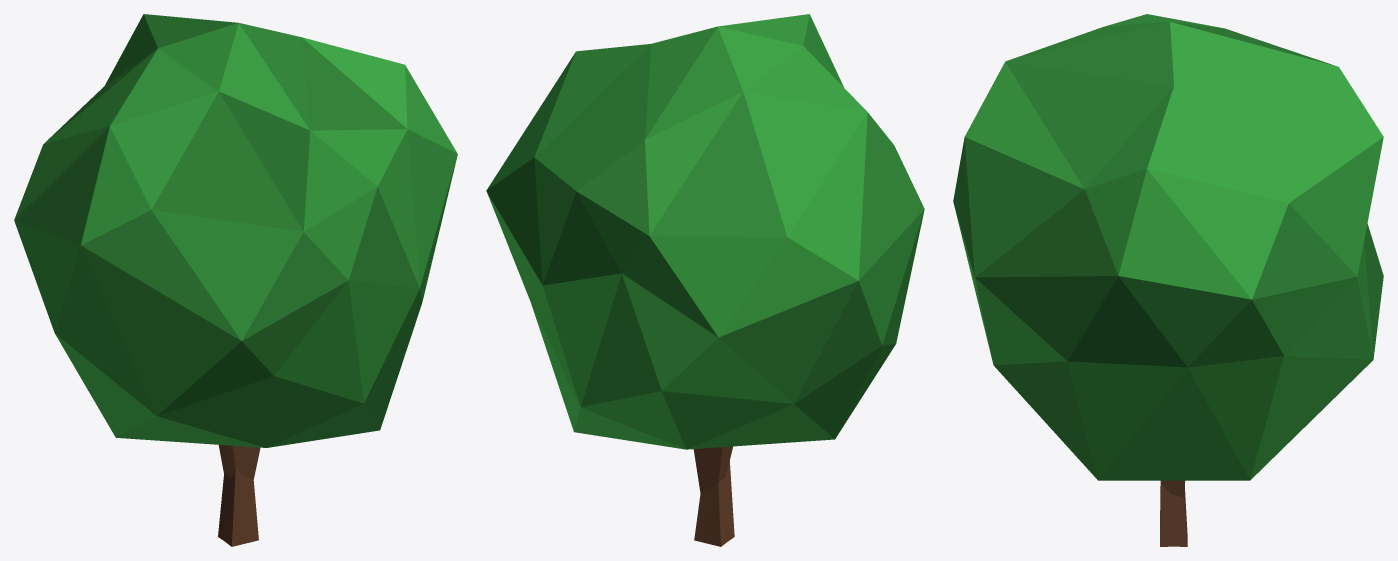
File: Tree_9_Green.fbx
The picture shows the model from 3 angles, left to right: view 1: azimuth 30°, elevation 25°; view 2: azimuth 150°, elevation 25°; view 3: azimuth 270°, elevation 25°; orthographic projection.
Parts seen in each view (by area): view 1: Tree_9_Green_Part_1, Tree_9_Green_Part_2; view 2: Tree_9_Green_Part_1, Tree_9_Green_Part_2; view 3: Tree_9_Green_Part_1, Tree_9_Green_Part_2.
Part boxes in pixels (left/top/right/bottom): Tree_9_Green_Part_1: left=14, top=14, right=457, bottom=447; Tree_9_Green_Part_2: left=218, top=445, right=260, bottom=546; Tree_9_Green_Part_1: left=486, top=14, right=924, bottom=449; Tree_9_Green_Part_2: left=693, top=446, right=734, bottom=546; Tree_9_Green_Part_1: left=953, top=14, right=1383, bottom=480; Tree_9_Green_Part_2: left=1160, top=480, right=1187, bottom=546.
Bounding box in the file's own units: 583 × 765 × 576.
